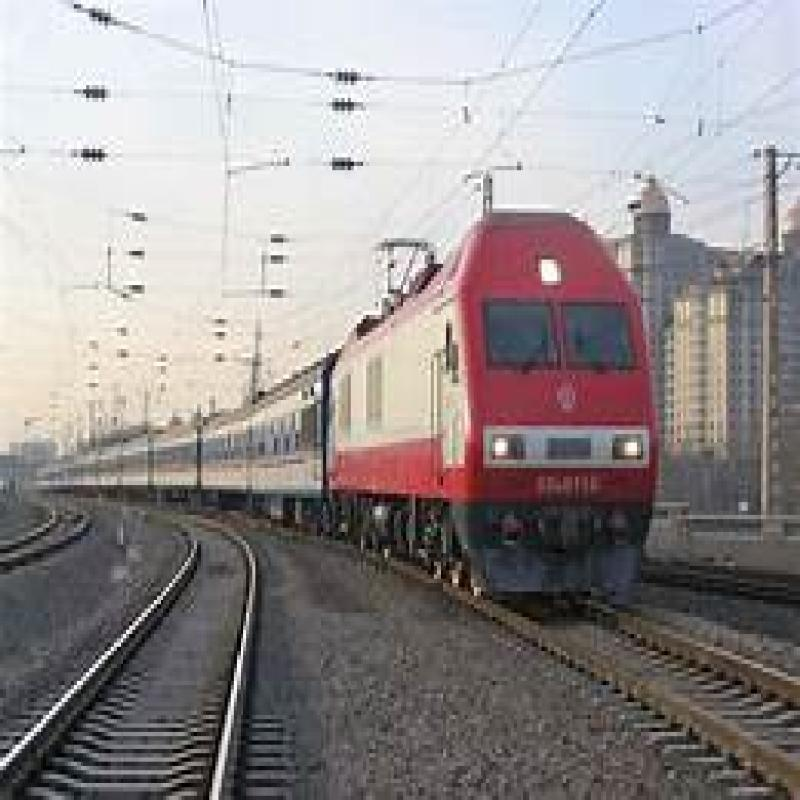train: (106, 222, 653, 563)
